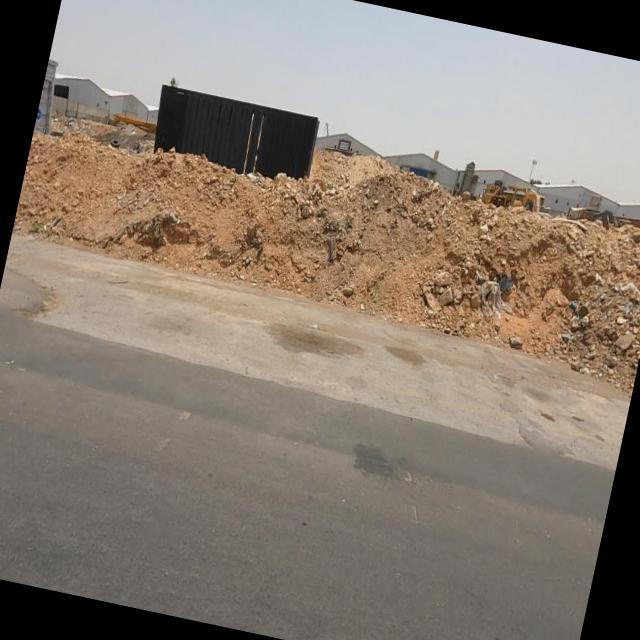debris: (434, 228, 556, 372), (290, 196, 380, 304), (540, 272, 606, 350), (595, 269, 640, 357), (580, 262, 630, 332)
